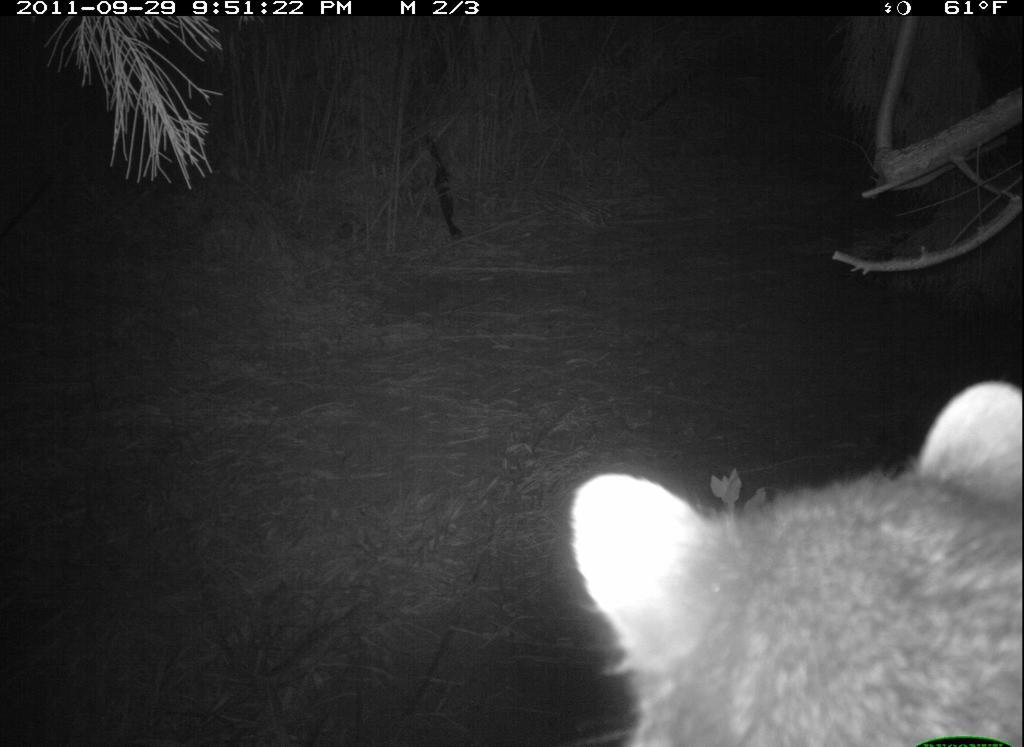raccoon: (565, 379, 1023, 747)
